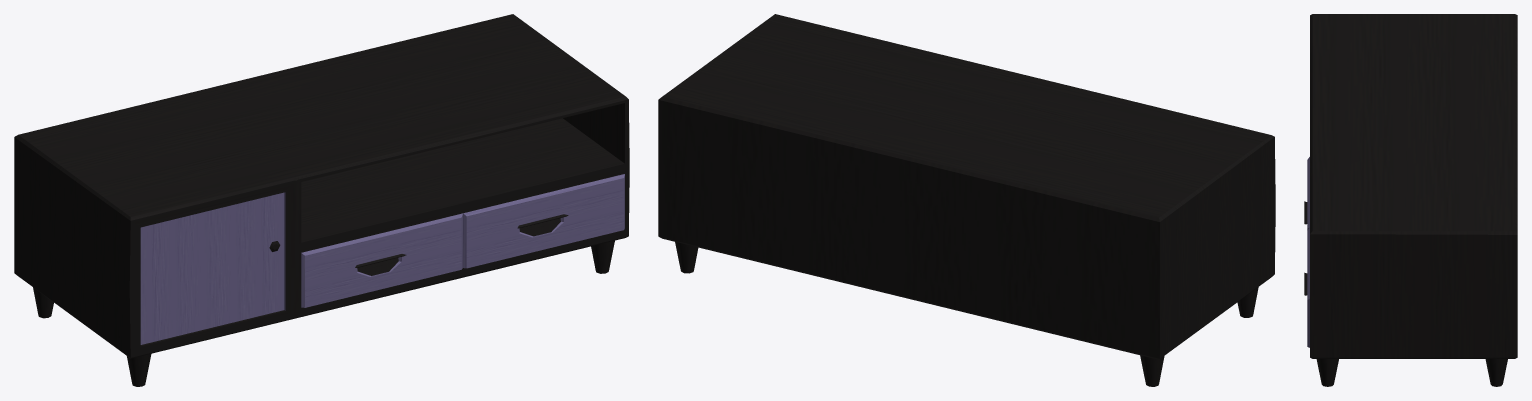
Rendered from Television_Stand_07.FBX.
3 views of the same model, side by side, from view 1: azimuth 30°, elevation 25°; view 2: azimuth 150°, elevation 25°; view 3: azimuth 270°, elevation 25° (orthographic). The views are drawn at different scales.
Visible parts, largest first — view 1: Television_Stand; view 2: Television_Stand; view 3: Television_Stand.
Boxes of the visible parts, x1,y1,x2,y2 form: Television_Stand: [14, 14, 629, 386]; Television_Stand: [658, 14, 1275, 386]; Television_Stand: [1304, 14, 1517, 386].
Size of the model in its own units: 425 by 144 by 175.
